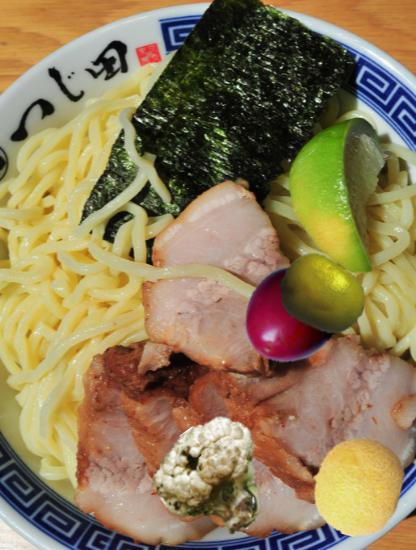Cantaloupe: (307, 437, 407, 537)
Cauliflower: (159, 422, 276, 539)
Pomelo: (278, 249, 368, 339)
Tamarillo: (239, 257, 349, 367)
